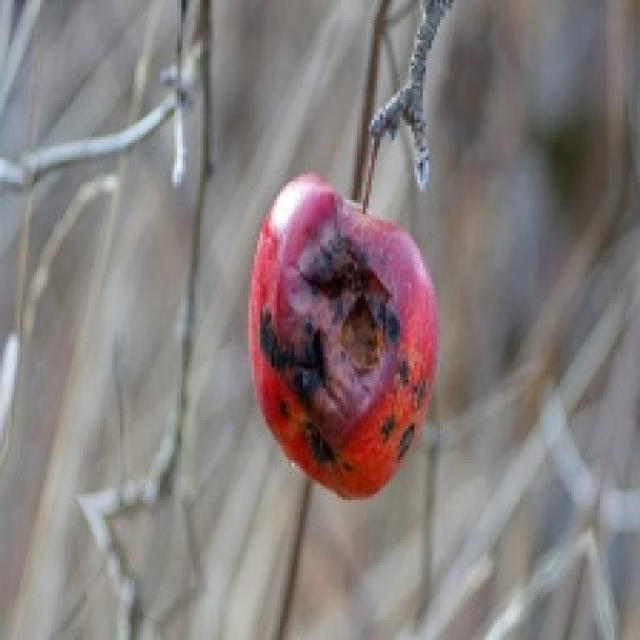rotten_apple: (255, 177, 436, 494)
